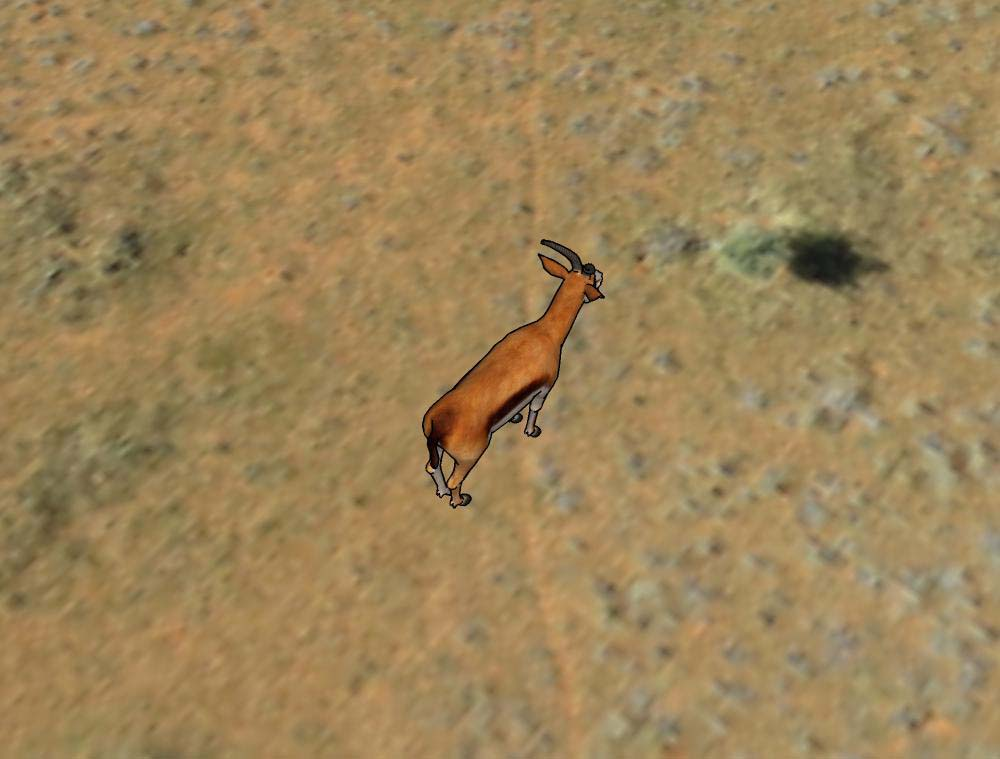springbok: (421, 234, 607, 509)
